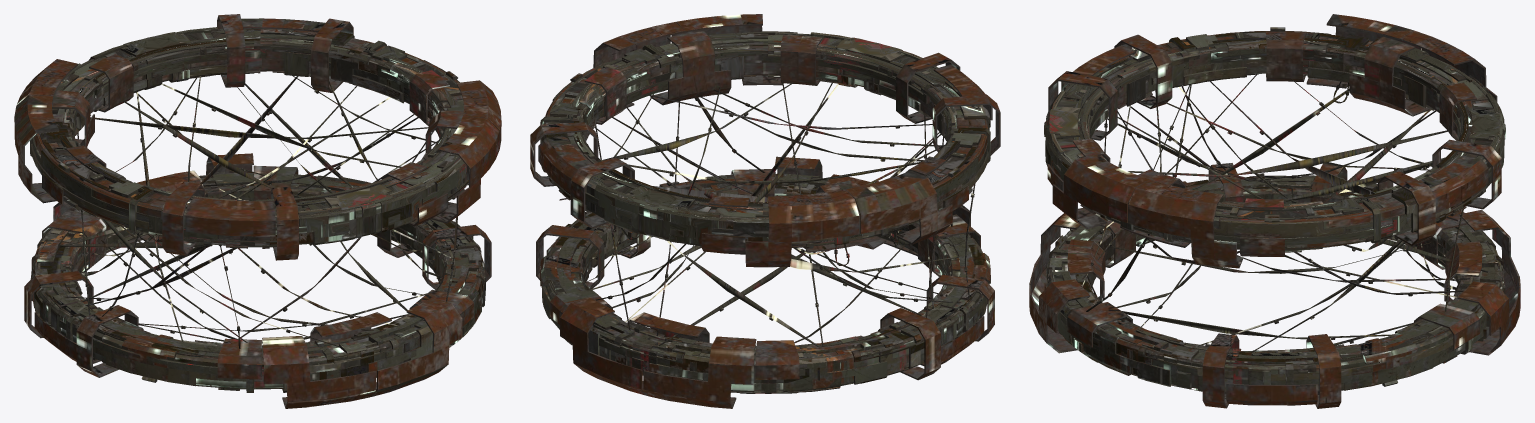
The model's file is station_ring.glb.
The picture shows the model from 3 angles, left to right: view 1: azimuth 30°, elevation 25°; view 2: azimuth 150°, elevation 25°; view 3: azimuth 270°, elevation 25°; orthographic projection. The views are drawn at different scales.
Parts seen in each view (by area): view 1: SpaceStation.005_low, SpaceStation.007_low, SpaceStation.004_low, SpaceStation.006_low, SpaceStation.002_low, SpaceStation.003_low; view 2: SpaceStation.005_low, SpaceStation.007_low, SpaceStation.004_low, SpaceStation.006_low, SpaceStation.002_low, SpaceStation.003_low; view 3: SpaceStation.005_low, SpaceStation.007_low, SpaceStation.004_low, SpaceStation.006_low, SpaceStation.002_low, SpaceStation.003_low.
Boxes of the visible parts, left/top/right/bottom form: SpaceStation.005_low: left=14, top=14, right=501, bottom=260; SpaceStation.007_low: left=30, top=27, right=469, bottom=248; SpaceStation.004_low: left=24, top=153, right=491, bottom=408; SpaceStation.006_low: left=30, top=171, right=485, bottom=392; SpaceStation.002_low: left=58, top=75, right=458, bottom=348; SpaceStation.003_low: left=85, top=89, right=454, bottom=333; SpaceStation.005_low: left=530, top=14, right=1000, bottom=267; SpaceStation.007_low: left=540, top=31, right=990, bottom=249; SpaceStation.004_low: left=536, top=156, right=994, bottom=408; SpaceStation.006_low: left=540, top=173, right=990, bottom=393; SpaceStation.002_low: left=585, top=81, right=975, bottom=347; SpaceStation.003_low: left=595, top=97, right=974, bottom=320; SpaceStation.005_low: left=1047, top=14, right=1501, bottom=268; SpaceStation.007_low: left=1044, top=27, right=1505, bottom=252; SpaceStation.004_low: left=1029, top=163, right=1520, bottom=408; SpaceStation.006_low: left=1044, top=173, right=1505, bottom=394; SpaceStation.002_low: left=1082, top=74, right=1487, bottom=352; SpaceStation.003_low: left=1090, top=85, right=1458, bottom=343.
Bounding box in the file's own units: 1.08 × 0.509 × 1.09.
2 materials, 2 textured.
